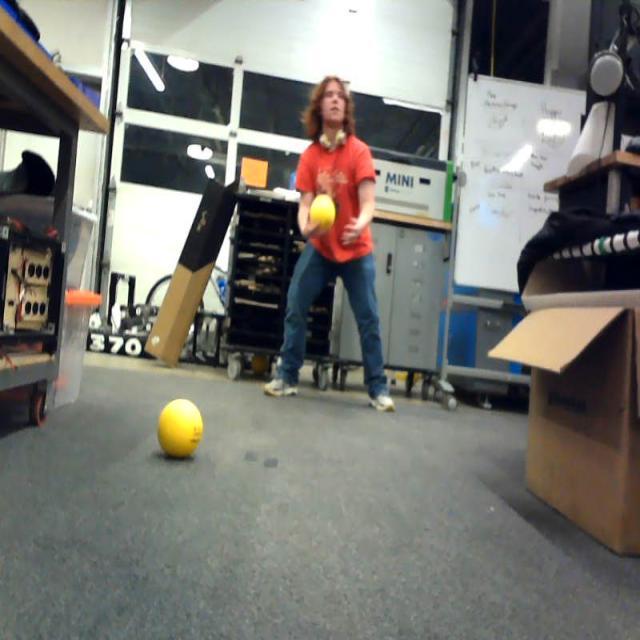Fuel: (158, 399, 203, 459), (310, 194, 335, 230)
